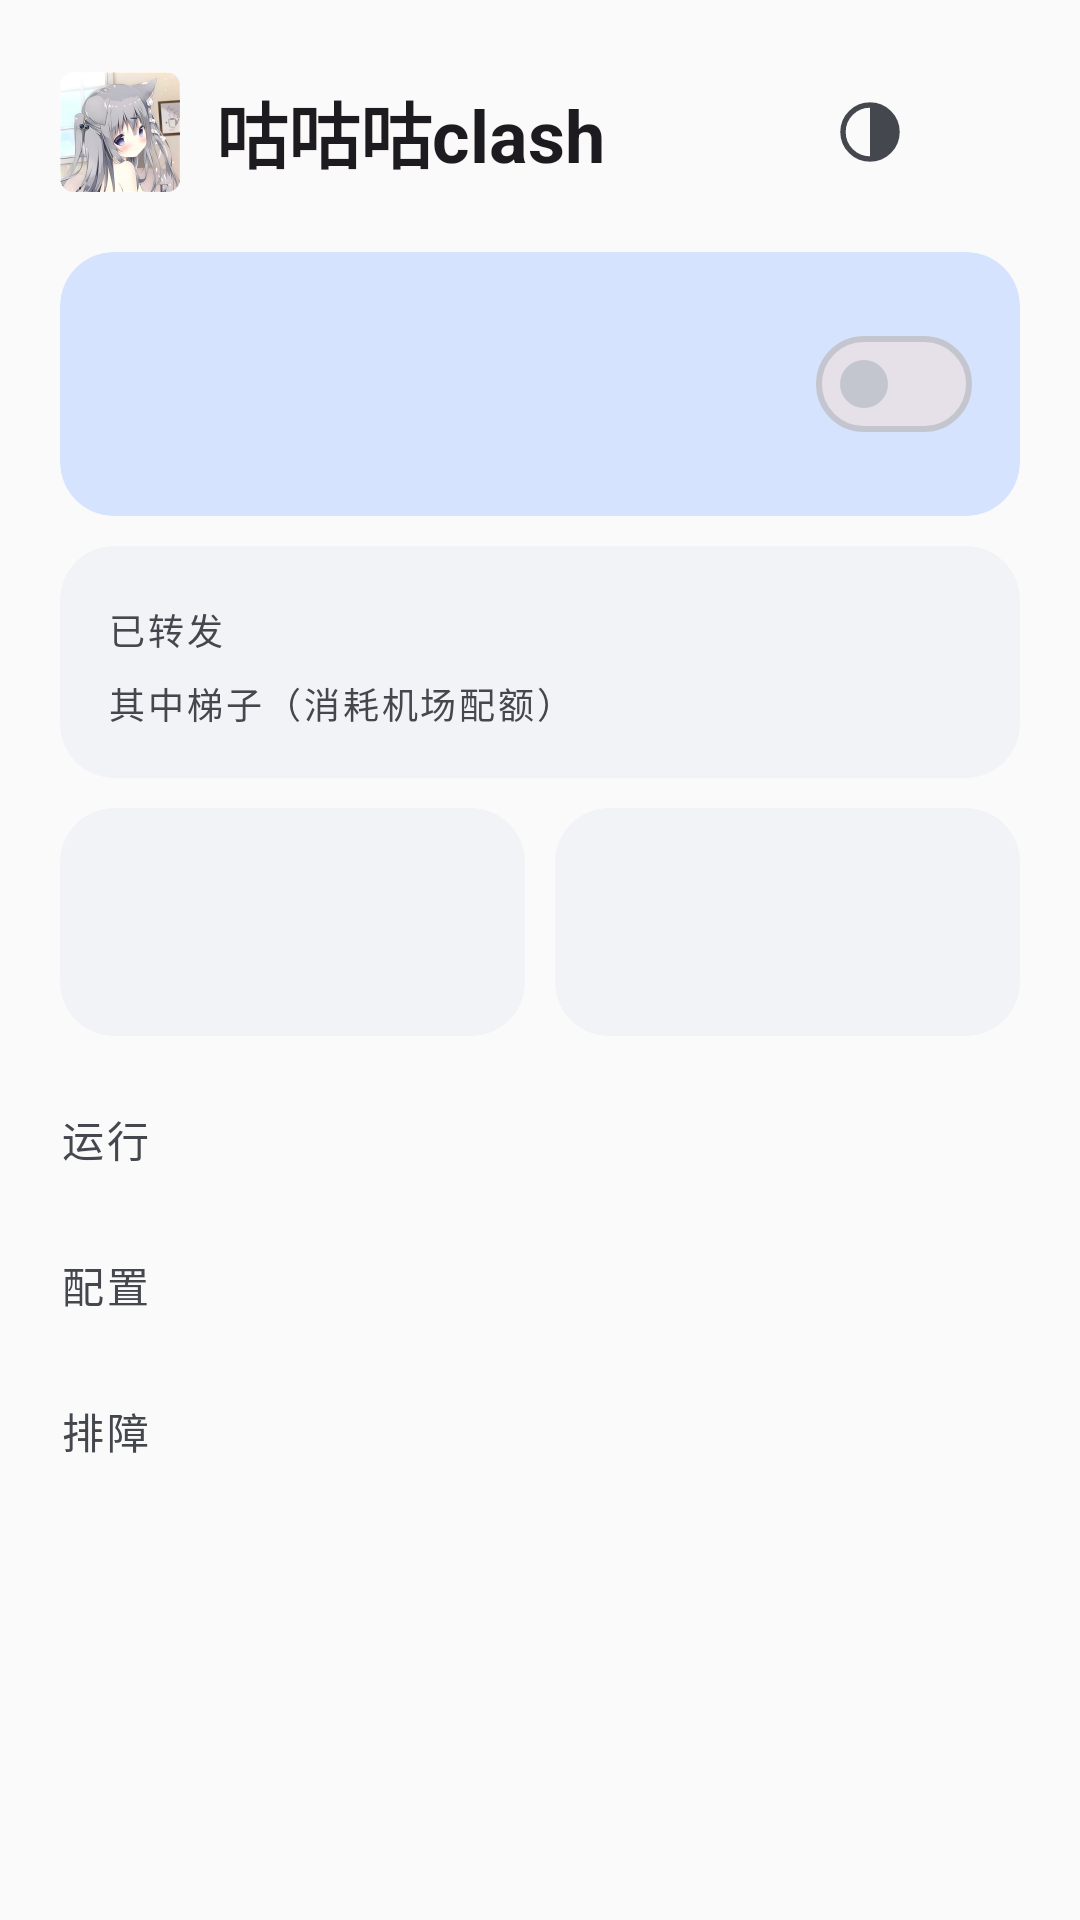

Screen size 1080×1920. Icon name, then its center in pixels as point (x, y):
切换主题: point (870, 132)
